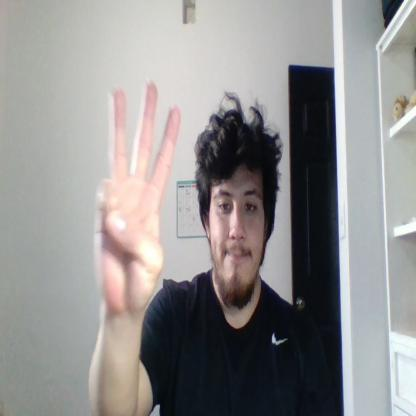W: (95, 80, 181, 312)
